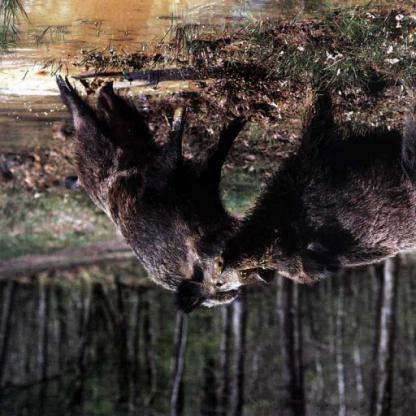boar: (64, 37, 252, 334), (223, 110, 415, 317)
